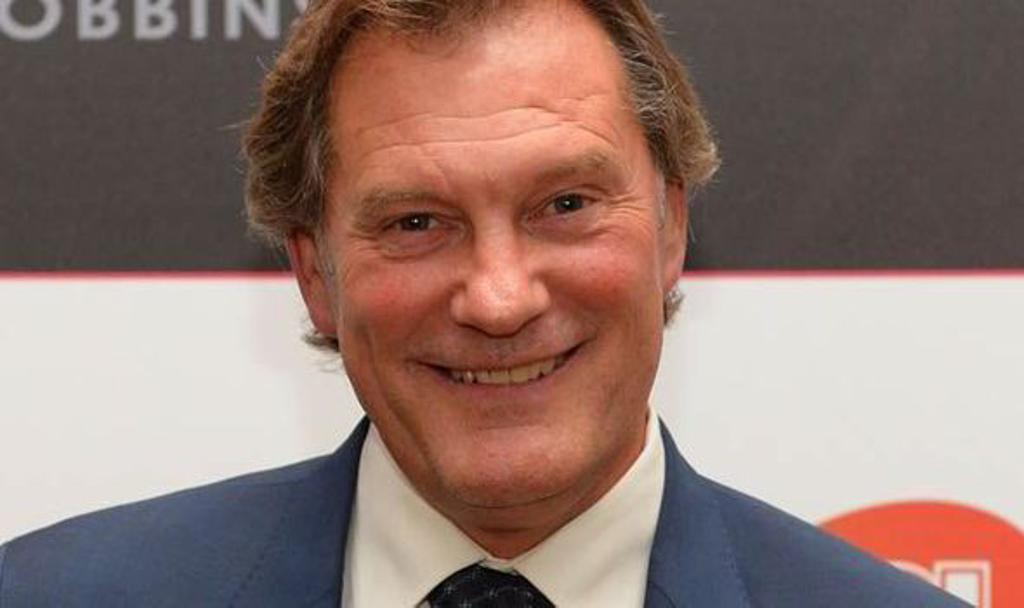face: (329, 23, 665, 501)
